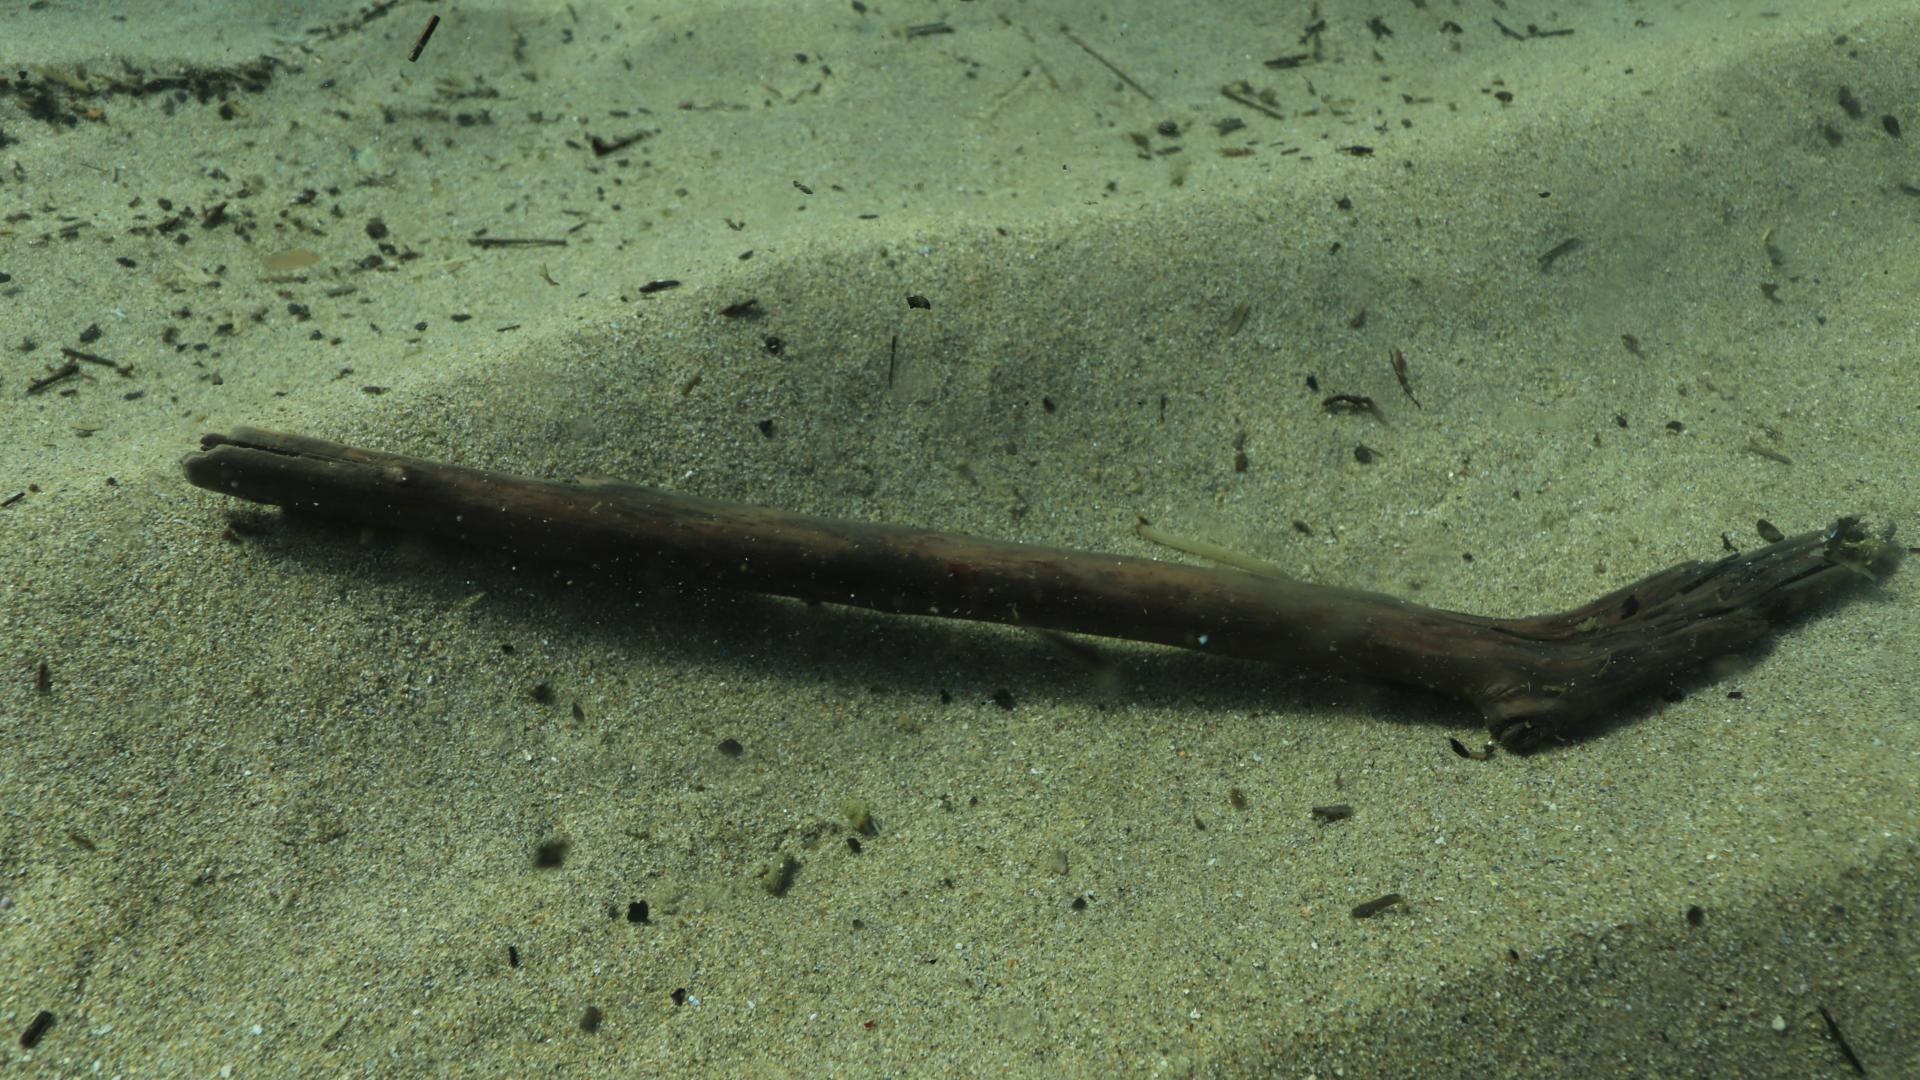wood: (182, 419, 1900, 754)
